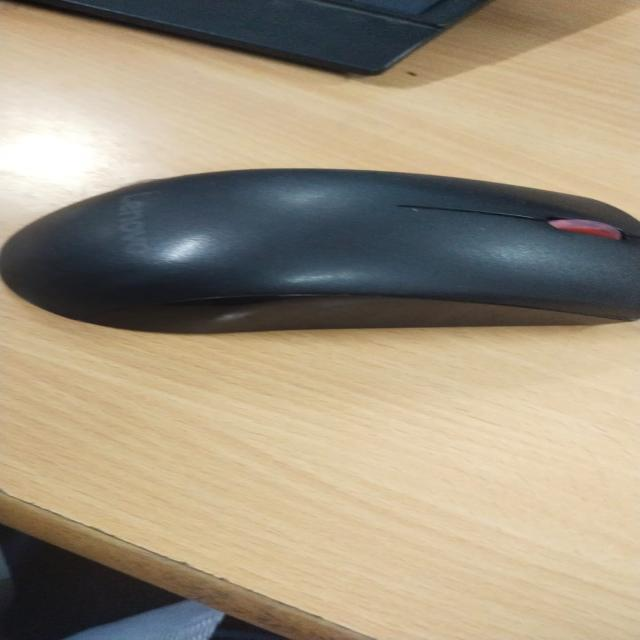mouse: (63, 140, 635, 354)
